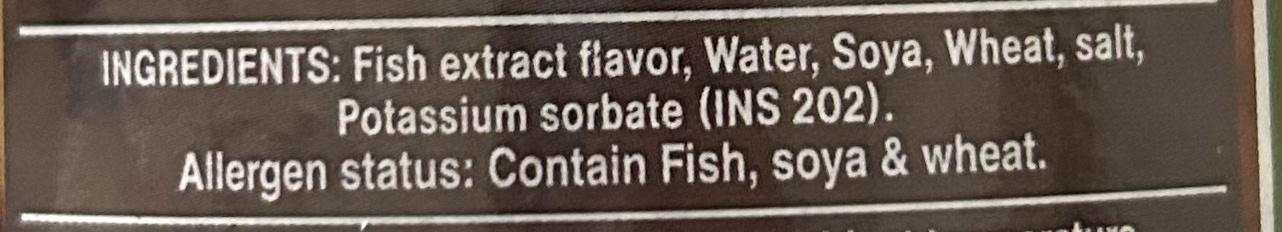ingredients: (94, 30, 1215, 206)
